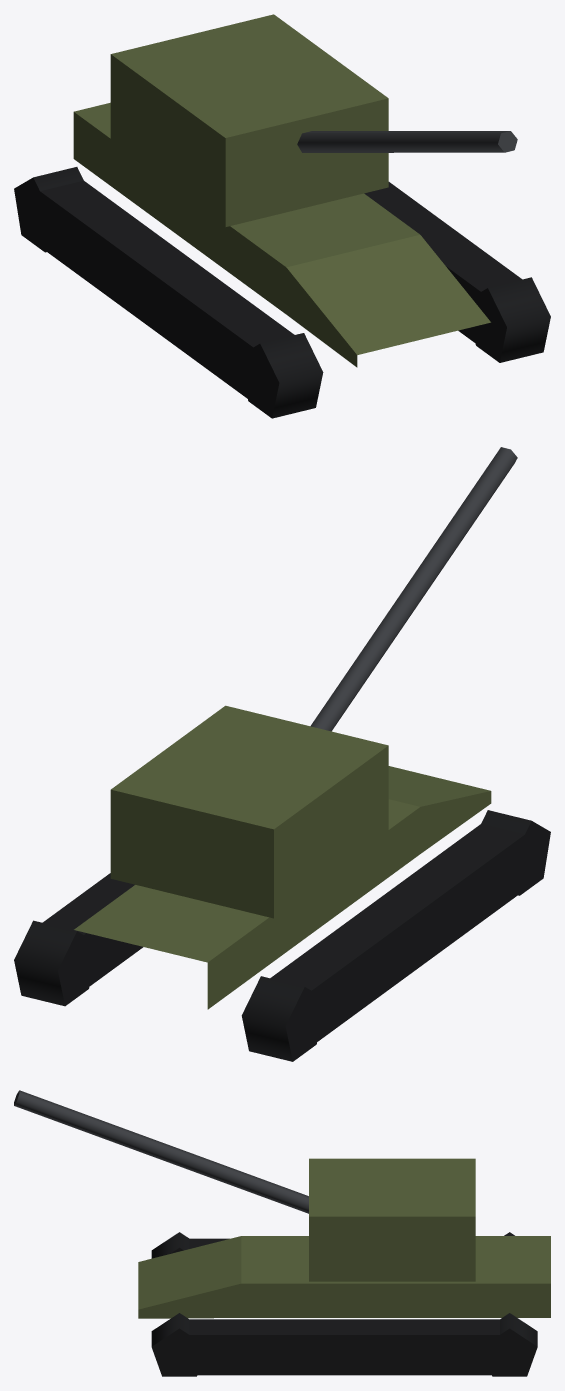
File: veh_ground_sp_artillery_a06_lod1.glb
3 views of the same model, one above another, from view 1: azimuth 30°, elevation 25°; view 2: azimuth 150°, elevation 25°; view 3: azimuth 270°, elevation 25° (orthographic). The views are drawn at different scales.
Visible parts, largest first — view 1: turret, body, track_r, track_l; view 2: turret, track_r, body, track_l; view 3: turret, body, track_l, track_r.
Boxes of the visible parts, x1,y1,x2,y2 form: turret: (110,14,517,227); body: (73,102,490,367); track_r: (14,167,323,418); track_l: (364,182,550,362); turret: (110,447,517,918); track_r: (241,810,550,1061); body: (74,766,491,1009); track_l: (14,873,143,1006); turret: (14,1090,475,1281); body: (138,1236,550,1318); track_l: (151,1313,537,1376); track_r: (151,1232,514,1258).
Size of the model in its own units: 3.83 by 4.38 by 9.01.
